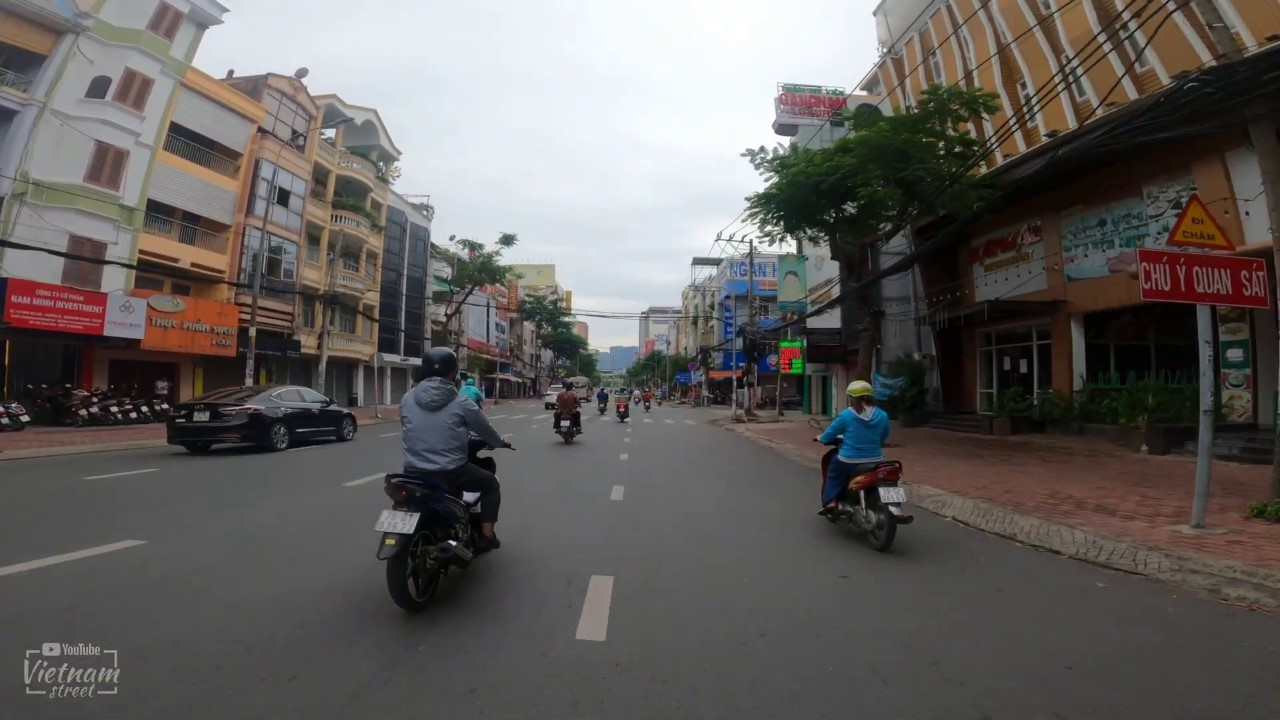di_cham: (1165, 191, 1237, 251)
